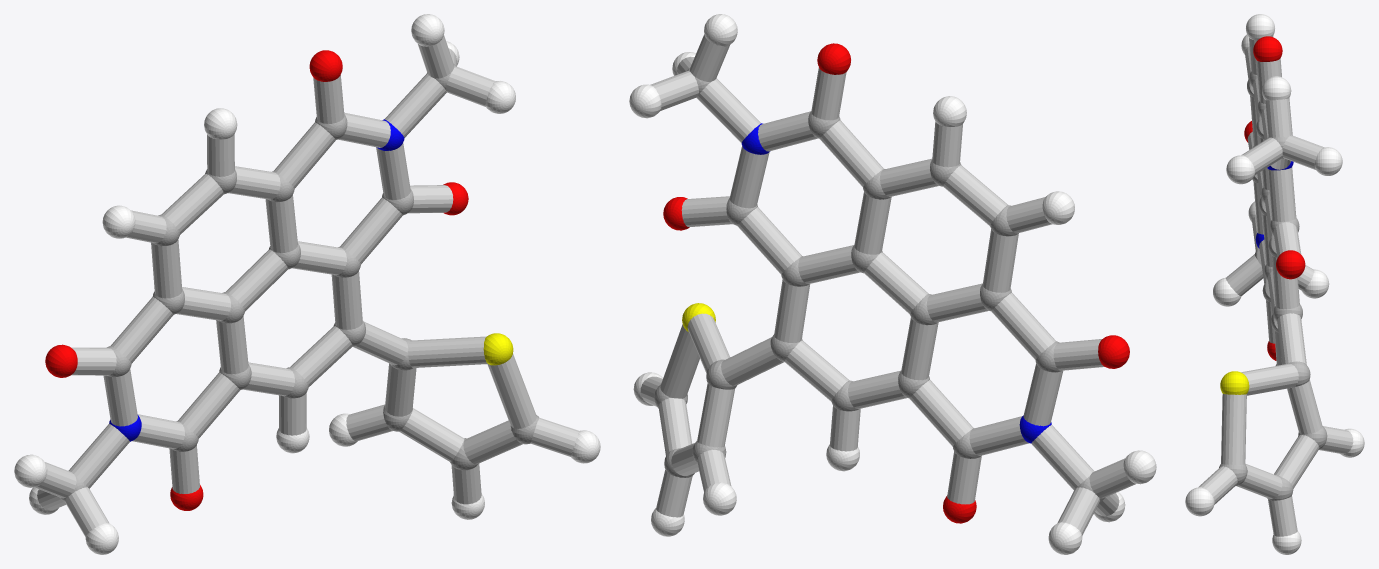
File: Dimethyl_Naphthalene_Dicarboximide_Phi_30_Theta_220_Thiophene.glb
3 renders of one model, left to right at view 1: azimuth 30°, elevation 25°; view 2: azimuth 150°, elevation 25°; view 3: azimuth 270°, elevation 25°, orthographic. The views are drawn at different scales.
Parts seen in each view (by area): view 1: grp14119, grp7241, grp1, grp12309, grp13757, grp11585; view 2: grp14119, grp7241, grp1, grp12309, grp11585; view 3: grp14119, grp7241, grp1, grp12309, grp13757.
Boxes of the visible parts, x1,y1,x2,y2 form: grp14119: (35, 35, 579, 536); grp7241: (14, 14, 600, 554); grp1: (59, 64, 538, 501); grp12309: (45, 50, 468, 510); grp13757: (483, 333, 513, 365); grp11585: (109, 119, 404, 441); grp14119: (640, 34, 1135, 535); grp7241: (629, 14, 1156, 554); grp1: (654, 68, 1104, 502); grp12309: (663, 43, 1129, 523); grp11585: (741, 123, 1051, 443); grp14119: (1198, 36, 1353, 536); grp7241: (1185, 14, 1364, 554); grp1: (1219, 71, 1327, 500); grp12309: (1244, 36, 1305, 360); grp13757: (1220, 371, 1249, 394).
Bounding box in the file's own units: 11.34 × 10.29 × 3.66.
